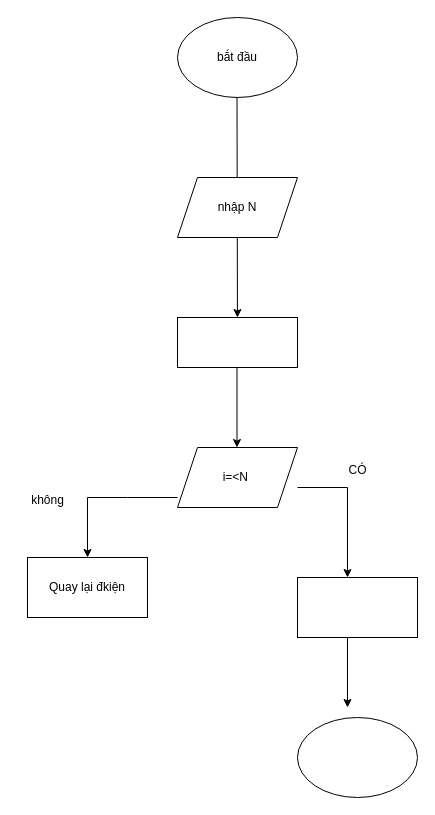
Image size: 435x815. Some labels were removed from this diagram. Here are the shapes that lost their labels. From the top down, the box of each, then its label:
(176, 316, 298, 368): tổng từ 1 đến i
(296, 576, 418, 638): IN TỔNG
